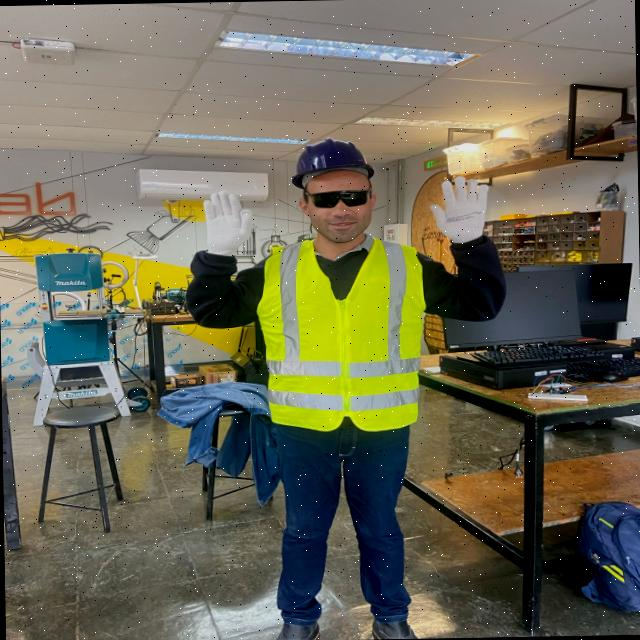BOTA: (366, 606, 430, 639), (273, 609, 321, 639)
CAPACETE: (290, 135, 379, 189)
COLETE: (265, 229, 432, 436)
LUVA: (429, 174, 494, 243), (198, 190, 258, 259)
OCULOS: (298, 183, 368, 209)
